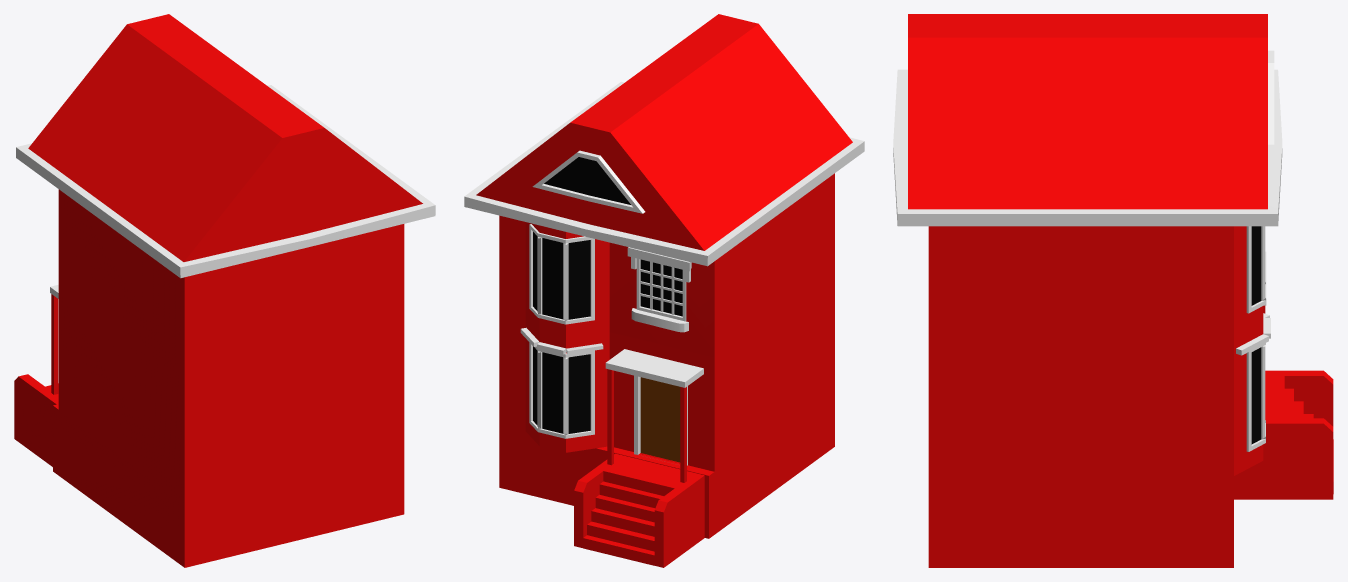
Rendered from houseresidentielred.fbx.
3 views of the same model, side by side, from view 1: azimuth 30°, elevation 25°; view 2: azimuth 150°, elevation 25°; view 3: azimuth 270°, elevation 25° (orthographic). The views are drawn at different scales.
Parts seen in each view (by area): view 1: houseresidentielred; view 2: houseresidentielred; view 3: houseresidentielred.
Boxes of the visible parts, box(x1,y1,x2,y2) form: houseresidentielred: box(14, 14, 435, 567); houseresidentielred: box(464, 14, 864, 567); houseresidentielred: box(893, 14, 1333, 567).
Size of the model in its own units: 637 by 989 by 822.
